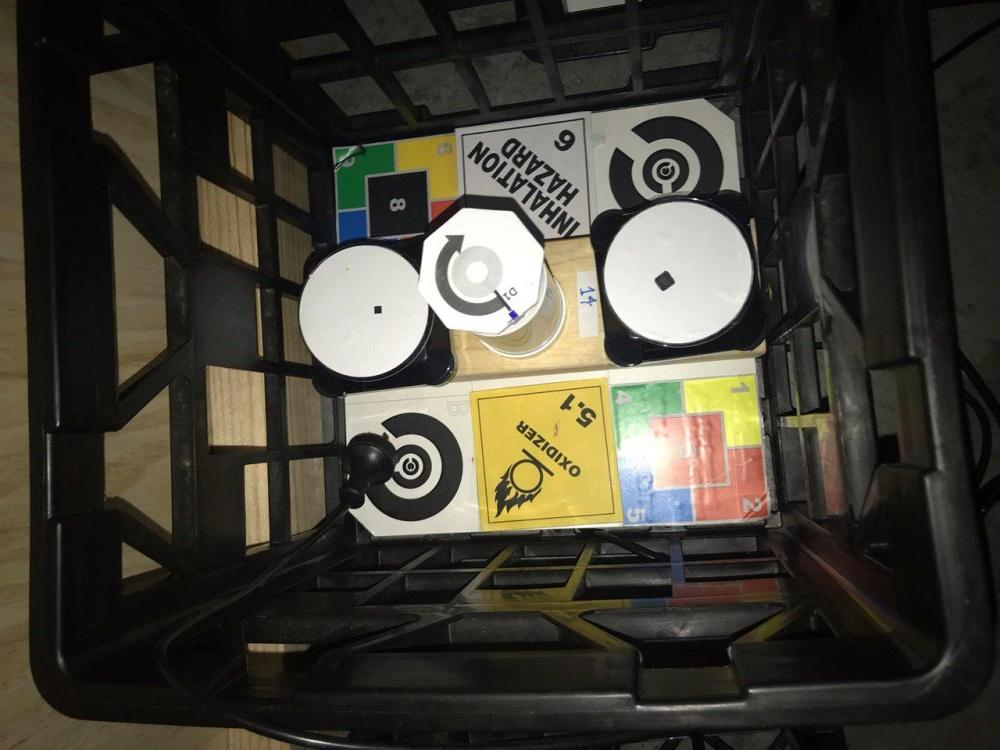oxidizer: (465, 376, 625, 530)
poison: (453, 106, 601, 238)
